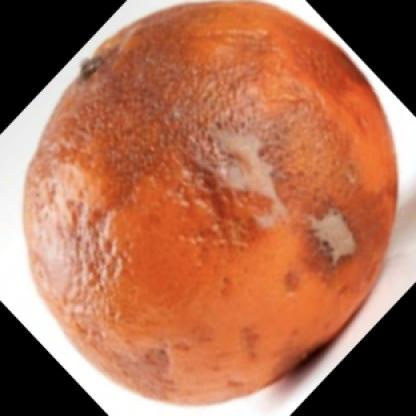rotten: (21, 1, 397, 406)
